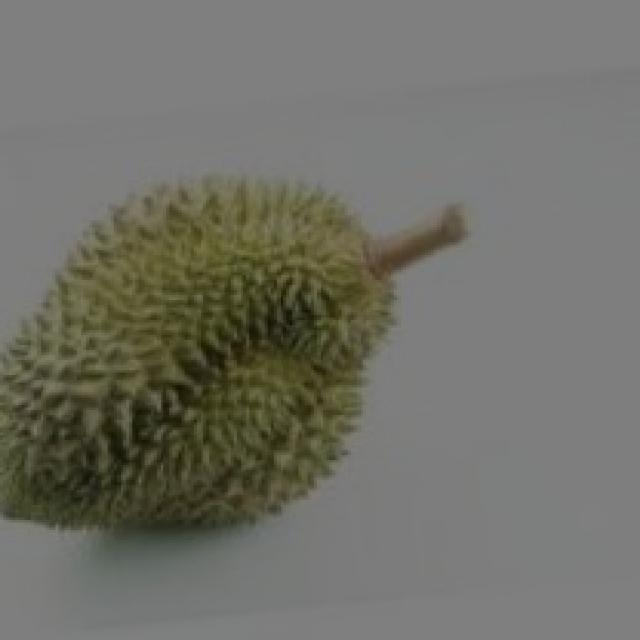fruit: (0, 180, 422, 588)
